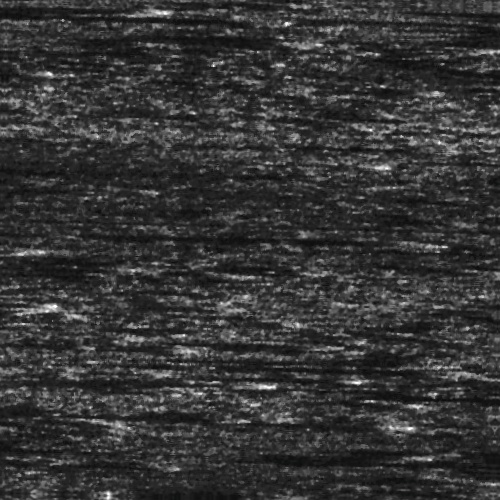object: (288, 414, 485, 429), (390, 353, 500, 378), (0, 302, 65, 321), (351, 232, 466, 241), (91, 8, 206, 17), (334, 372, 407, 381), (443, 468, 500, 479), (215, 379, 298, 386), (388, 355, 461, 362), (404, 444, 445, 455), (117, 269, 180, 276), (0, 251, 44, 260), (290, 342, 353, 347), (25, 73, 88, 78), (247, 17, 288, 24), (128, 496, 169, 500)
shadow: (268, 353, 457, 378), (192, 414, 387, 429), (98, 232, 408, 241), (1, 17, 268, 24), (296, 444, 425, 455), (56, 379, 256, 386), (358, 468, 484, 479), (302, 454, 500, 461), (0, 8, 148, 17), (241, 372, 370, 381), (0, 269, 148, 276), (298, 355, 425, 362), (423, 150, 500, 161), (332, 13, 500, 18), (0, 496, 148, 500), (405, 389, 500, 394), (434, 2, 500, 7), (256, 342, 321, 347), (0, 73, 57, 78)
